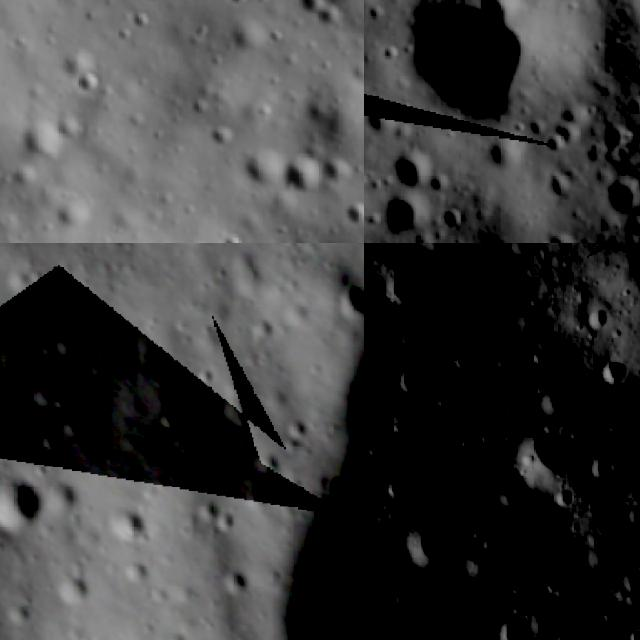crater: (422, 0, 566, 126), (0, 467, 50, 531), (284, 0, 364, 38), (520, 418, 560, 492), (275, 150, 330, 202), (386, 148, 426, 202), (404, 523, 454, 566), (598, 177, 640, 217), (106, 504, 146, 546), (54, 191, 95, 231), (373, 201, 419, 236), (331, 273, 364, 320), (64, 68, 108, 100), (27, 374, 65, 411), (8, 263, 50, 295), (54, 572, 88, 604), (212, 397, 255, 422), (396, 364, 423, 401), (339, 192, 364, 229), (220, 566, 252, 592), (214, 503, 242, 532), (597, 363, 625, 392), (0, 598, 33, 622), (278, 415, 314, 436), (0, 335, 28, 361), (51, 334, 80, 359), (585, 304, 610, 332), (250, 450, 282, 471), (250, 312, 274, 339), (35, 431, 64, 453), (392, 278, 413, 308), (0, 361, 11, 417), (154, 407, 182, 429), (190, 363, 218, 384), (506, 617, 529, 640), (272, 436, 304, 451), (304, 357, 324, 379), (210, 260, 231, 280), (528, 346, 548, 367), (198, 497, 215, 521), (511, 243, 536, 259), (172, 440, 193, 458), (218, 449, 237, 467), (61, 416, 78, 436), (30, 462, 49, 479), (197, 276, 211, 292)
